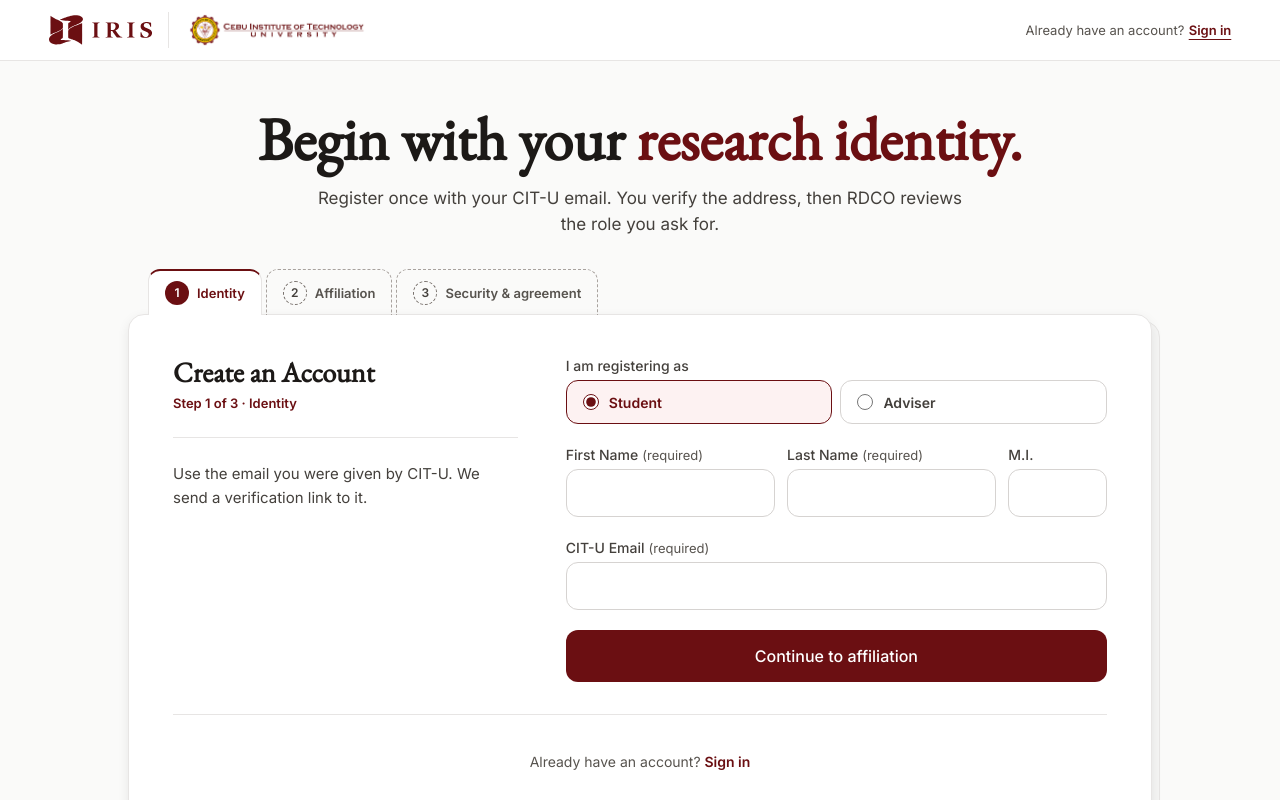
it: the register steps › narrows programs to the chosen college, grouped by department
In the field labelled "First Name": point(670, 493) [566,469,775,517], type " Juan "
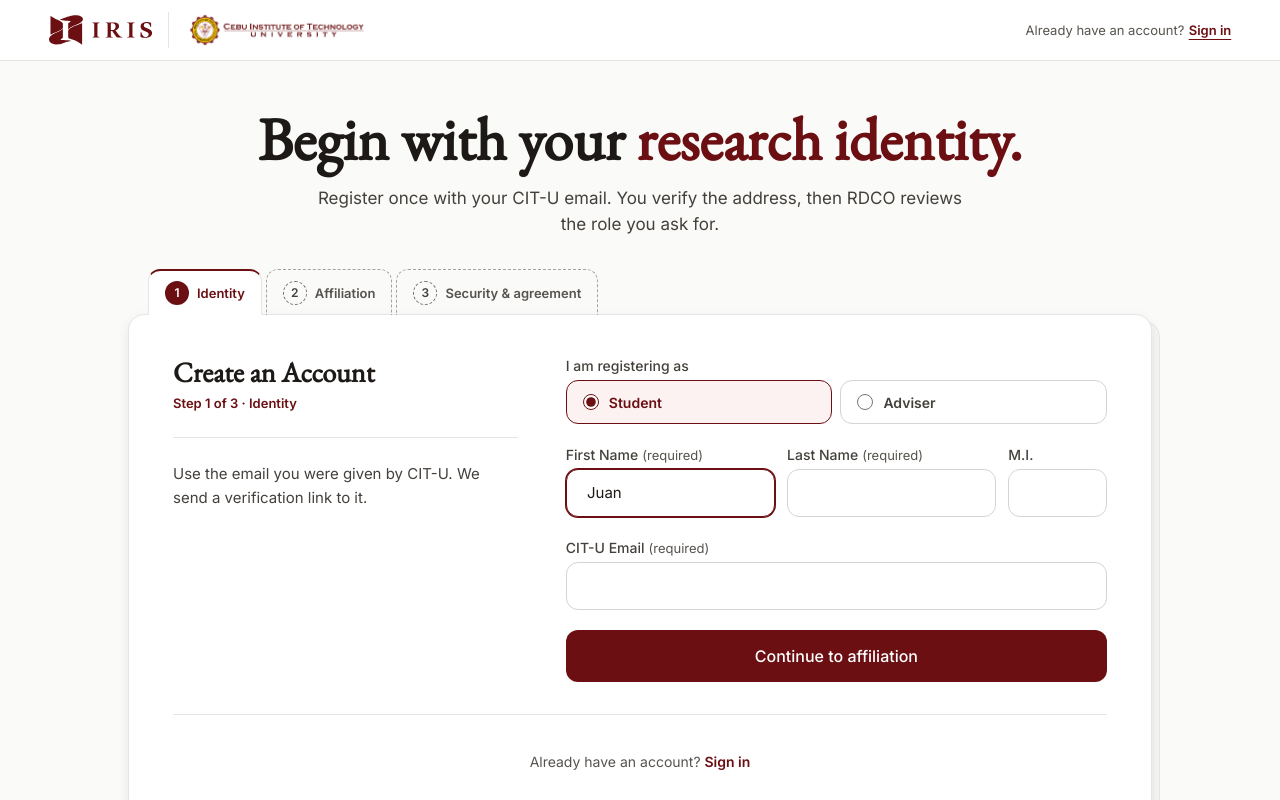
In the field labelled "Last Name": point(892, 493) [787,469,996,517], type "Dela Cruz"
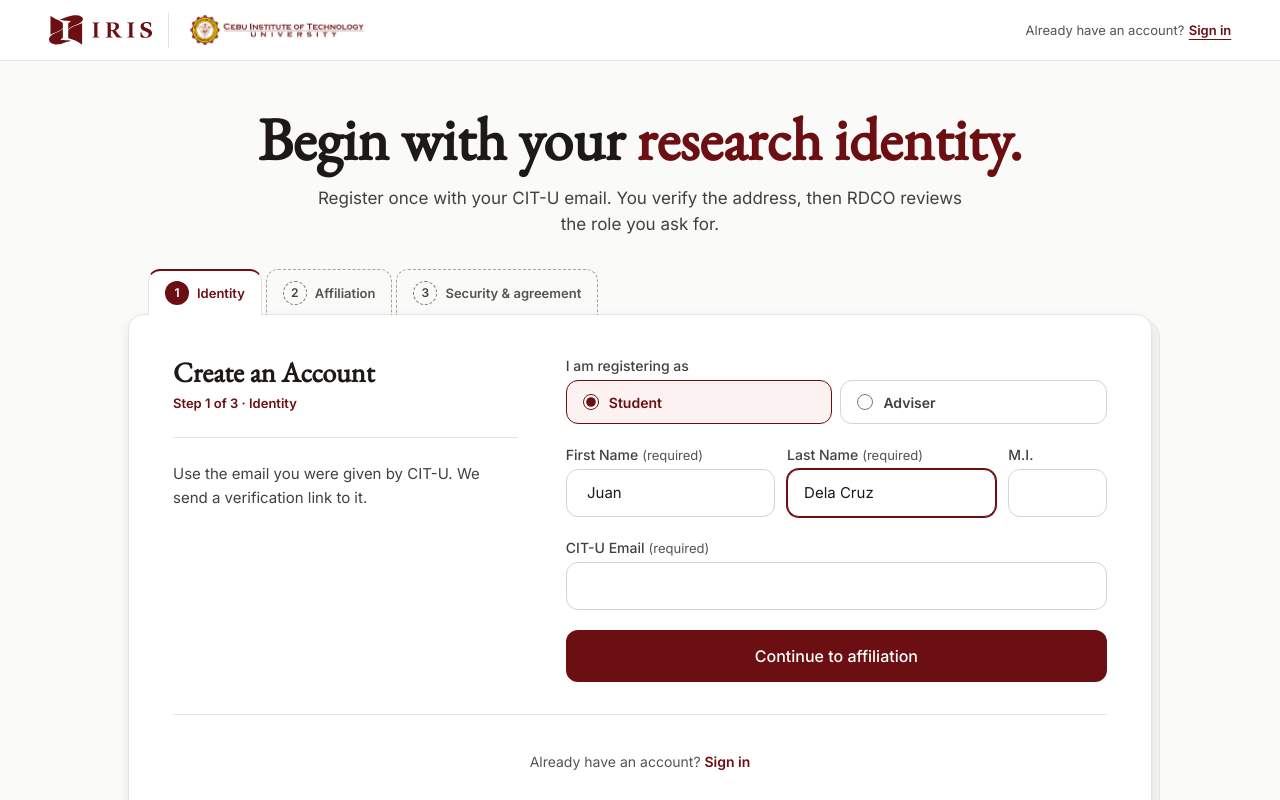
In the field labelled "M.I.": point(1058, 493) [1008,469,1107,517], type "S."
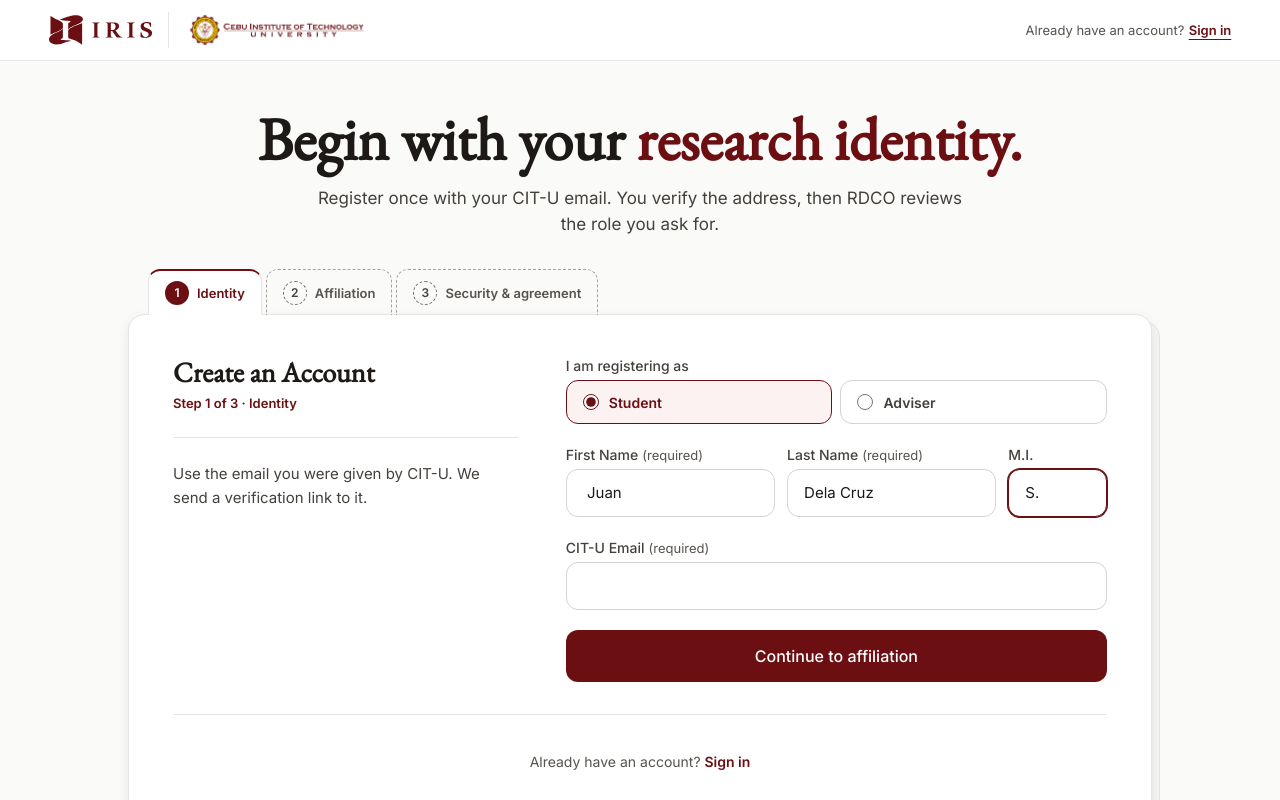
In the field labelled "CIT-U Email": point(836, 586) [566,562,1107,610], type "juan@cit.edu"
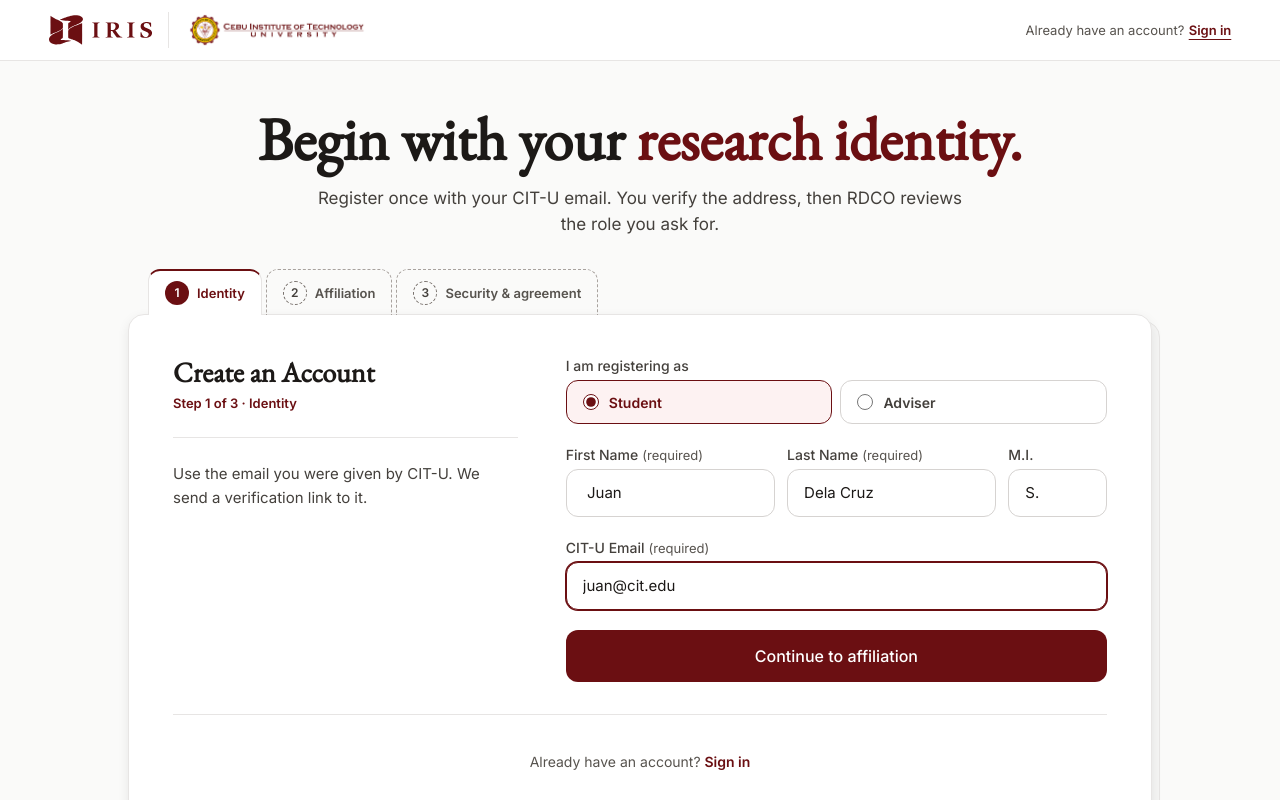
Click the button "Continue to affiliation": point(836, 656) [566,630,1107,682]
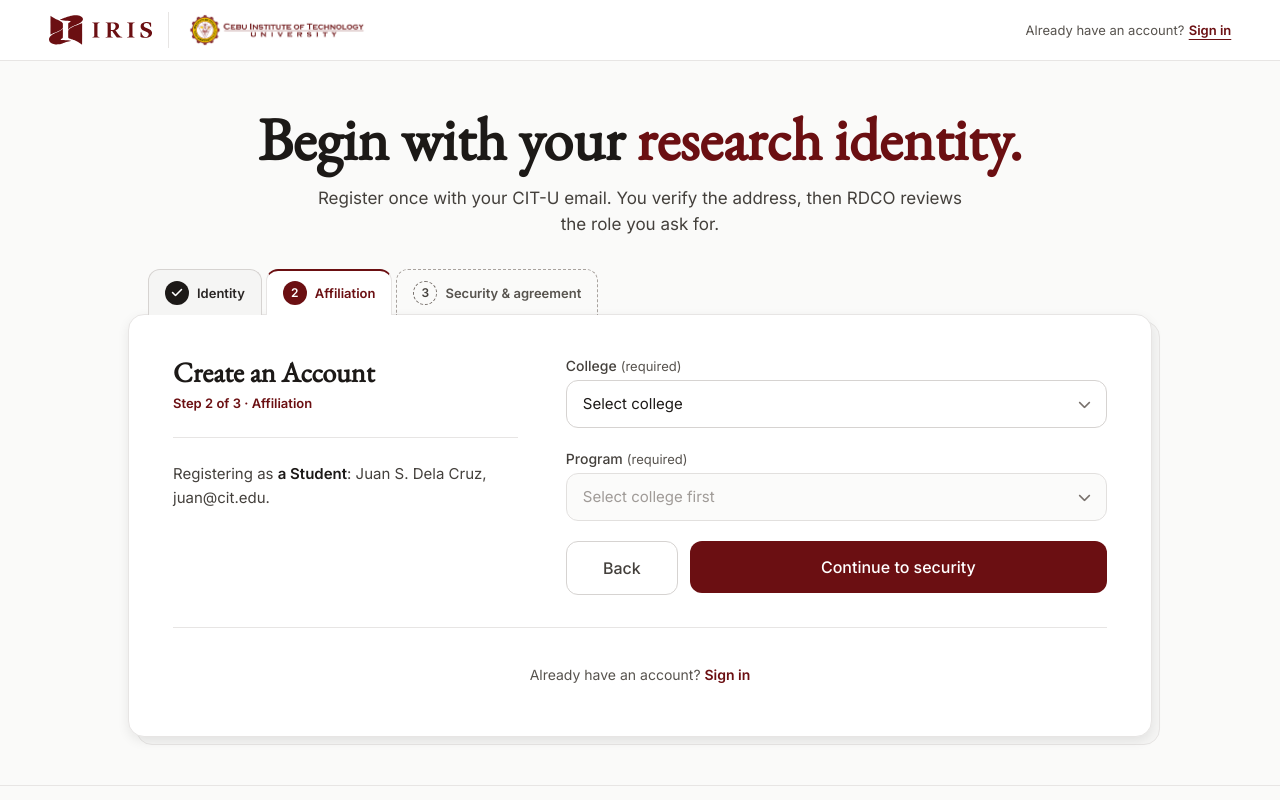
Expected: the dropdown labelled "College" is enabled
Expected: the dropdown labelled "Program" is disabled, [566,473,1107,521]
Select "College of Computer Studies" in the dropdown labelled "College": point(836, 404) [566,380,1107,428]
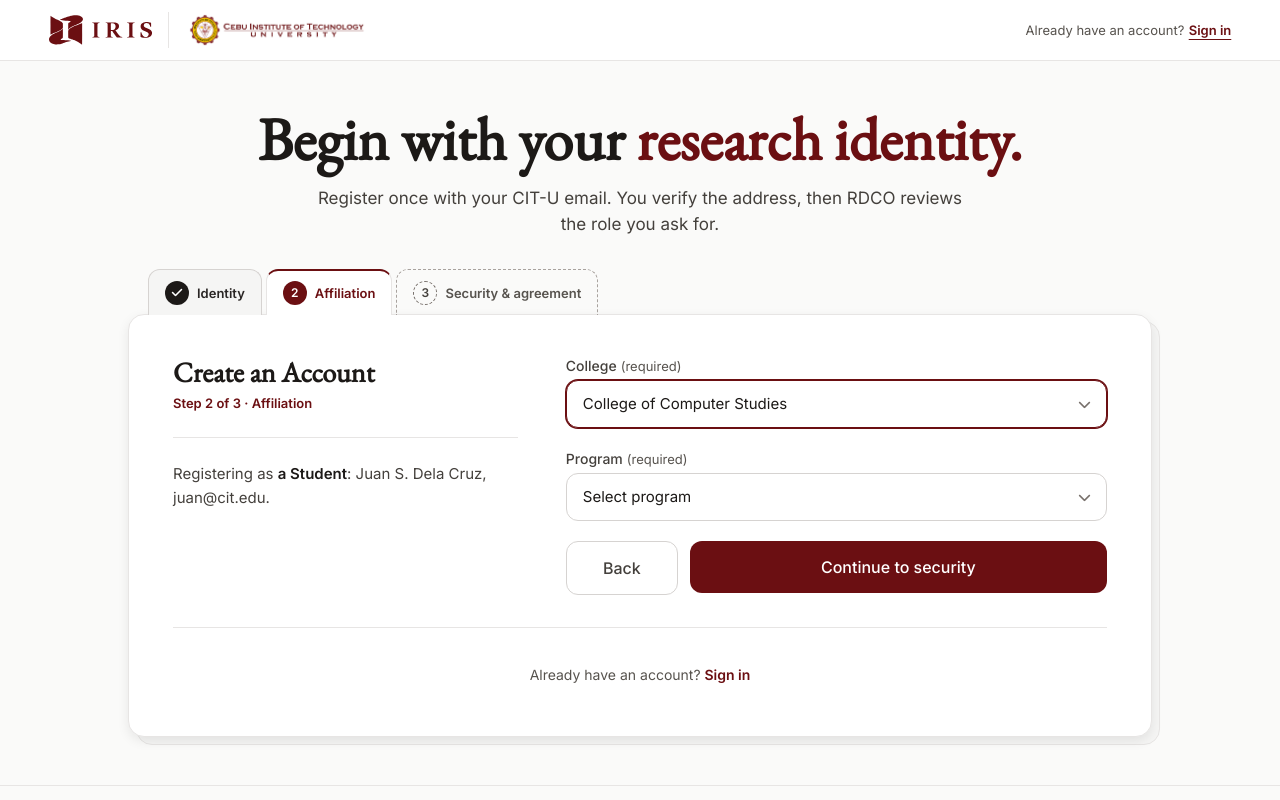
Expected: the dropdown labelled "Program" is enabled, [566,473,1107,521]
